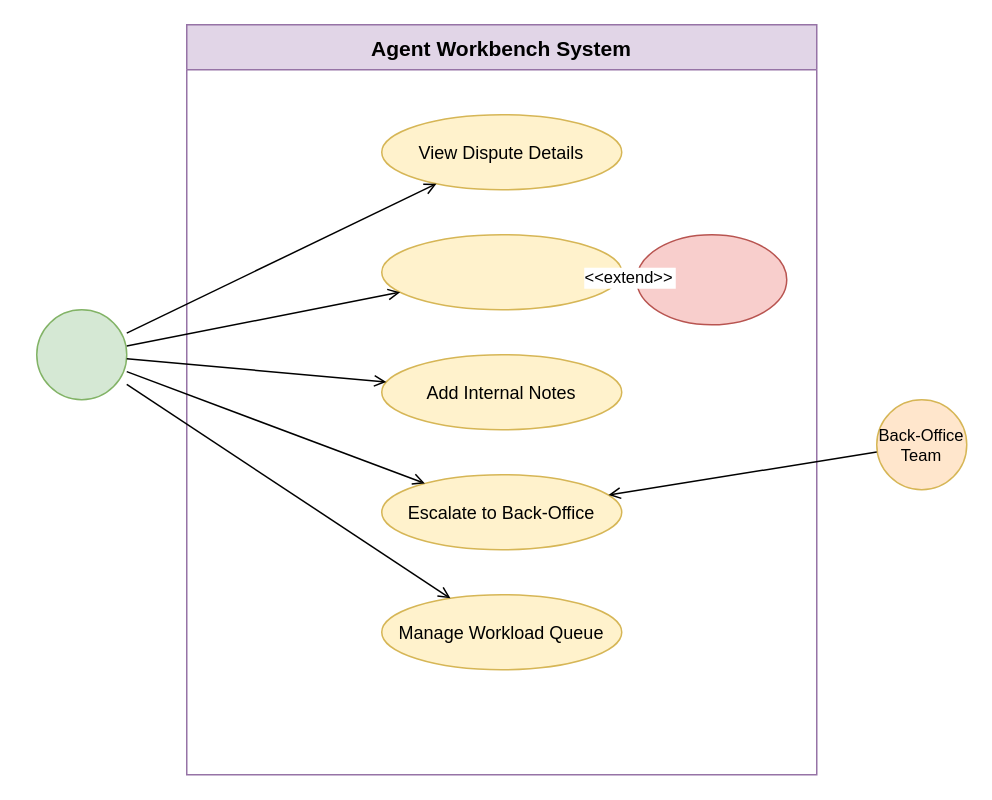
Image size: 992x800. Some labels were removed from this diagram. The centre of each missing label's shape, as x and y in pixels:
Auto-Categorise (Rule Engine): the point at 711,279
Categorise Dispute: the point at 501,271
Dispute Agent: the point at 81,354
